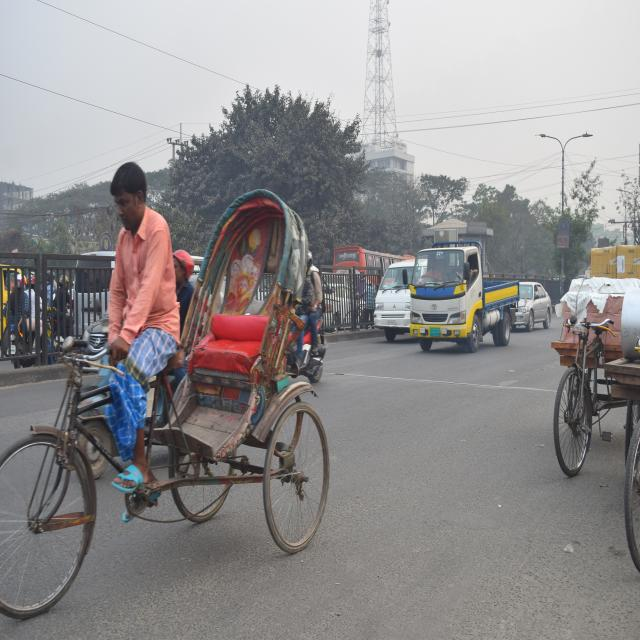car: (516, 278, 557, 338)
microbus: (364, 228, 413, 344)
pickup-van: (400, 230, 530, 367)
